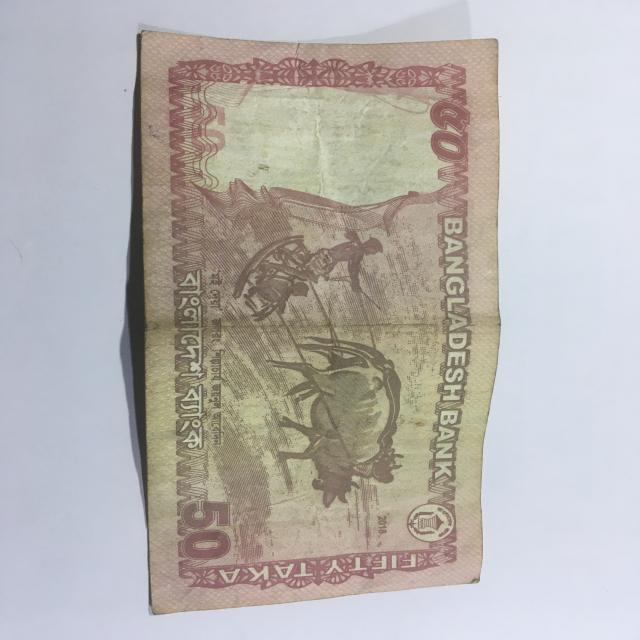Taka: (125, 17, 481, 581)
